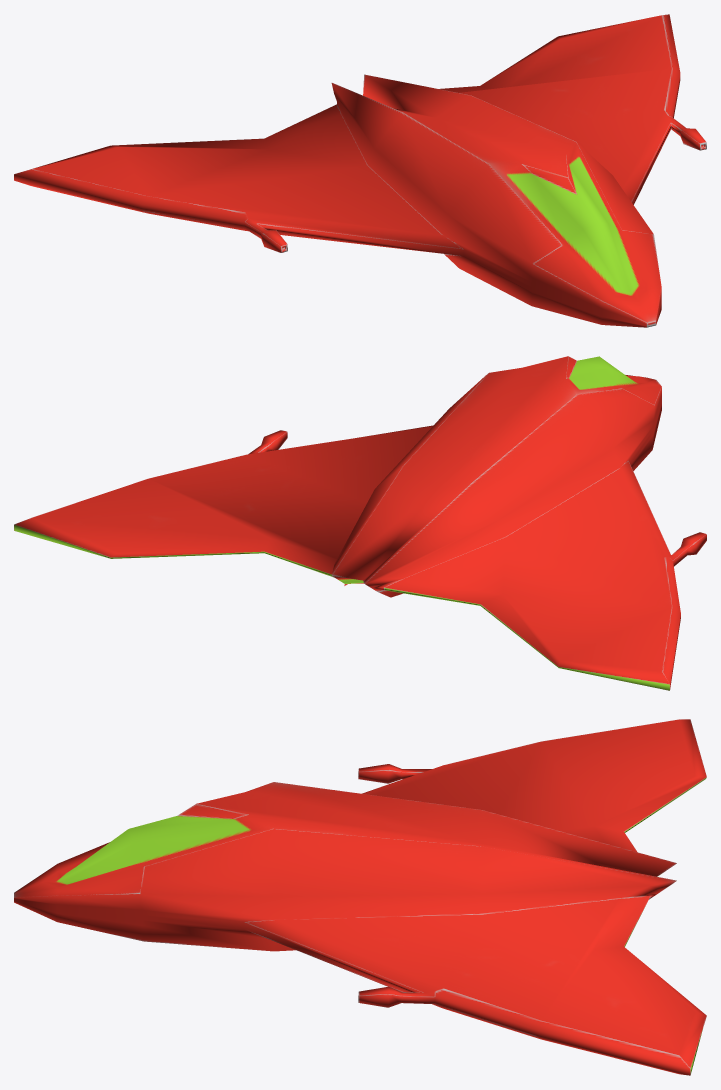
The model's file is NaveVermelha.fbx.
3 renders of one model, top to bottom at view 1: azimuth 30°, elevation 25°; view 2: azimuth 150°, elevation 25°; view 3: azimuth 270°, elevation 25°, orthographic. The views are drawn at different scales.
Visible parts, largest first — view 1: Naves:Box002; view 2: Naves:Box002; view 3: Naves:Box002.
Part boxes in pixels (box(x1,y1,x2,y2)): Naves:Box002: box(14, 14, 706, 327); Naves:Box002: box(14, 356, 706, 690); Naves:Box002: box(14, 719, 706, 1075).
Bounding box in the file's own units: 113 × 17.57 × 94.38.
